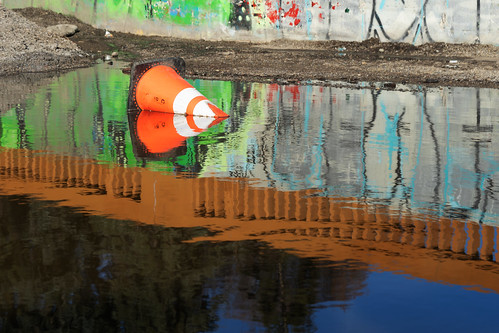traffic cone: (123, 59, 236, 131)
